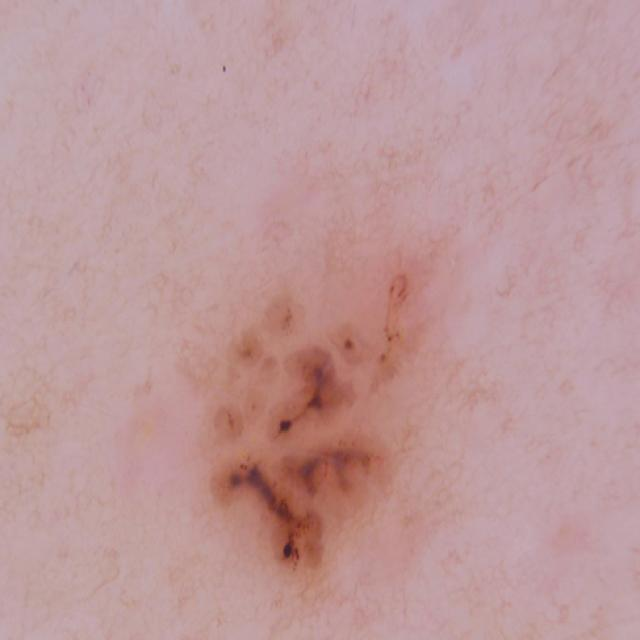Carcinoma: (157, 298, 452, 588)
